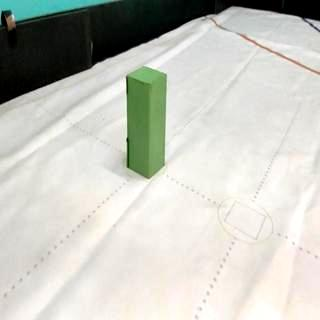greenbox: (126, 68, 166, 180)
